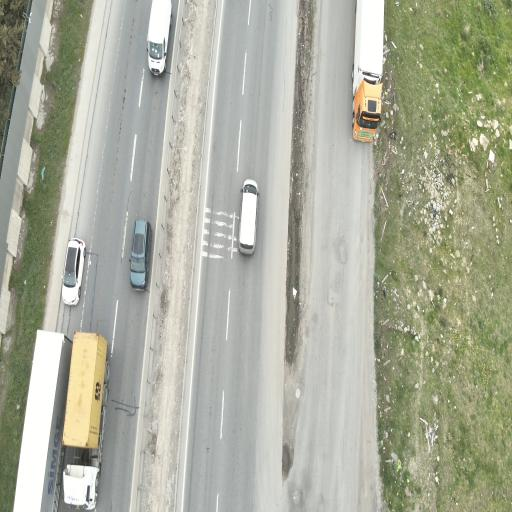car: (62, 238, 86, 305), (130, 220, 151, 290), (239, 180, 258, 254)
truck: (14, 330, 109, 511), (14, 330, 72, 511), (63, 333, 109, 509), (352, 0, 384, 141), (147, 0, 171, 75)
